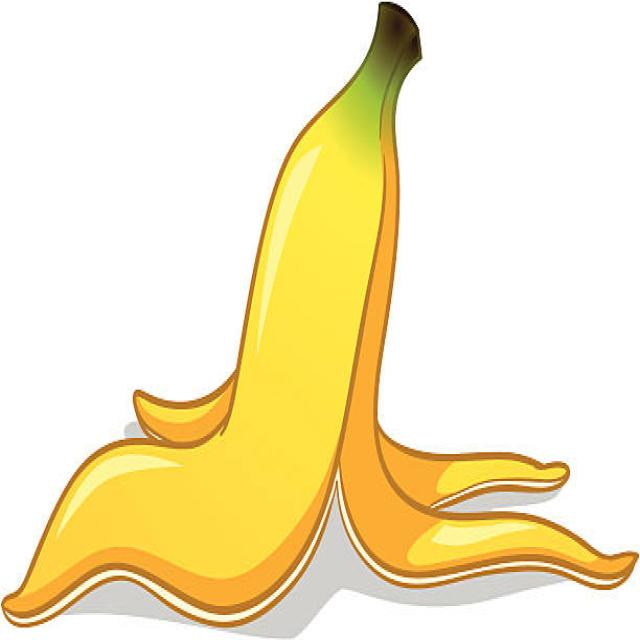banana_peel: (0, 0, 639, 638)
